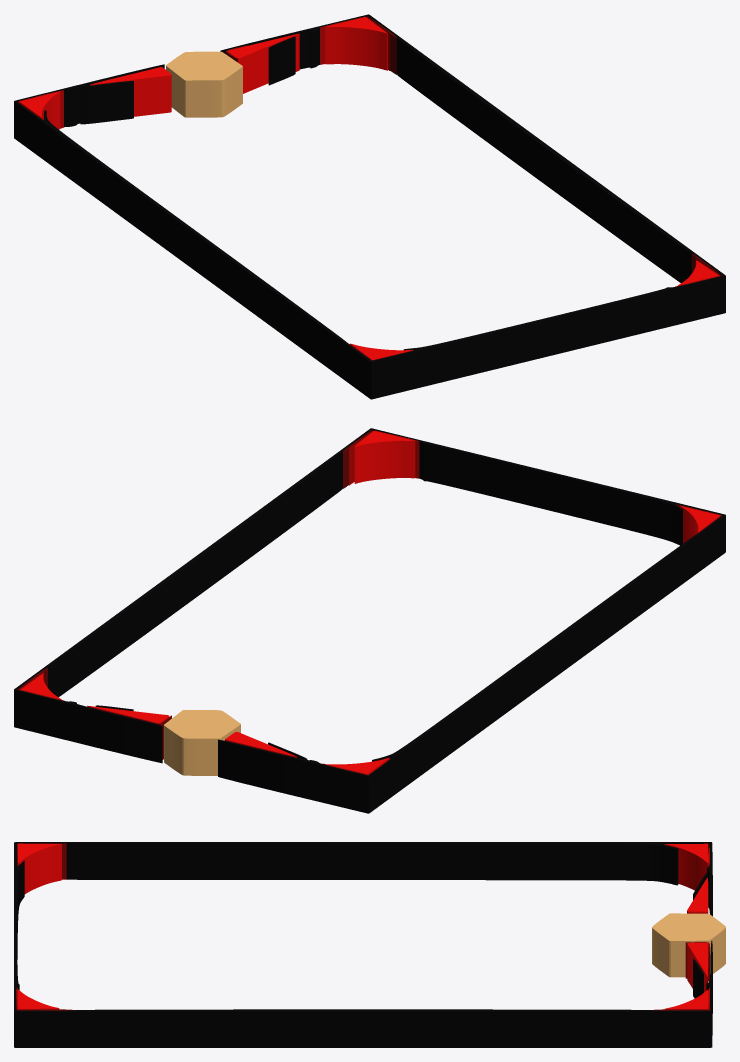
3 renders of one model, top to bottom at view 1: azimuth 30°, elevation 25°; view 2: azimuth 150°, elevation 25°; view 3: azimuth 270°, elevation 25°, orthographic. The views are drawn at different scales.
Parts seen in each view (by area): view 1: imagetostl_mesh0, imagetostl_mesh1, imagetostl_mesh18, imagetostl_mesh12, imagetostl_mesh2, imagetostl_mesh19, imagetostl_mesh6, imagetostl_mesh8, imagetostl_mesh4; view 2: imagetostl_mesh0, imagetostl_mesh1, imagetostl_mesh16, imagetostl_mesh18, imagetostl_mesh19; view 3: imagetostl_mesh0, imagetostl_mesh1, imagetostl_mesh18, imagetostl_mesh19, imagetostl_mesh14, imagetostl_mesh10, imagetostl_mesh7, imagetostl_mesh9, imagetostl_mesh13, imagetostl_mesh11, imagetostl_mesh8, imagetostl_mesh15 (+1 smaller).
Part boxes in pixels (x1,y1,x2,y2): imagetostl_mesh0: (14, 15, 725, 399); imagetostl_mesh1: (14, 14, 725, 362); imagetostl_mesh18: (166, 66, 242, 117); imagetostl_mesh12: (325, 27, 387, 70); imagetostl_mesh2: (80, 81, 133, 124); imagetostl_mesh19: (166, 51, 242, 80); imagetostl_mesh6: (90, 75, 171, 116); imagetostl_mesh8: (230, 33, 299, 93); imagetostl_mesh4: (268, 37, 295, 85); imagetostl_mesh0: (14, 429, 725, 813); imagetostl_mesh1: (14, 428, 725, 776); imagetostl_mesh16: (354, 440, 415, 483); imagetostl_mesh18: (164, 724, 240, 775); imagetostl_mesh19: (164, 710, 240, 738); imagetostl_mesh0: (14, 843, 712, 1047); imagetostl_mesh1: (14, 842, 712, 1011); imagetostl_mesh18: (652, 928, 725, 977); imagetostl_mesh19: (652, 913, 725, 940); imagetostl_mesh14: (18, 844, 61, 894); imagetostl_mesh10: (664, 844, 708, 890); imagetostl_mesh7: (687, 878, 708, 911); imagetostl_mesh9: (687, 942, 708, 976); imagetostl_mesh13: (665, 990, 708, 1008); imagetostl_mesh11: (665, 843, 708, 862); imagetostl_mesh8: (687, 944, 708, 992); imagetostl_mesh15: (18, 843, 60, 862).
Size of the model in its own units: 10000 by 1000 by 17765.
